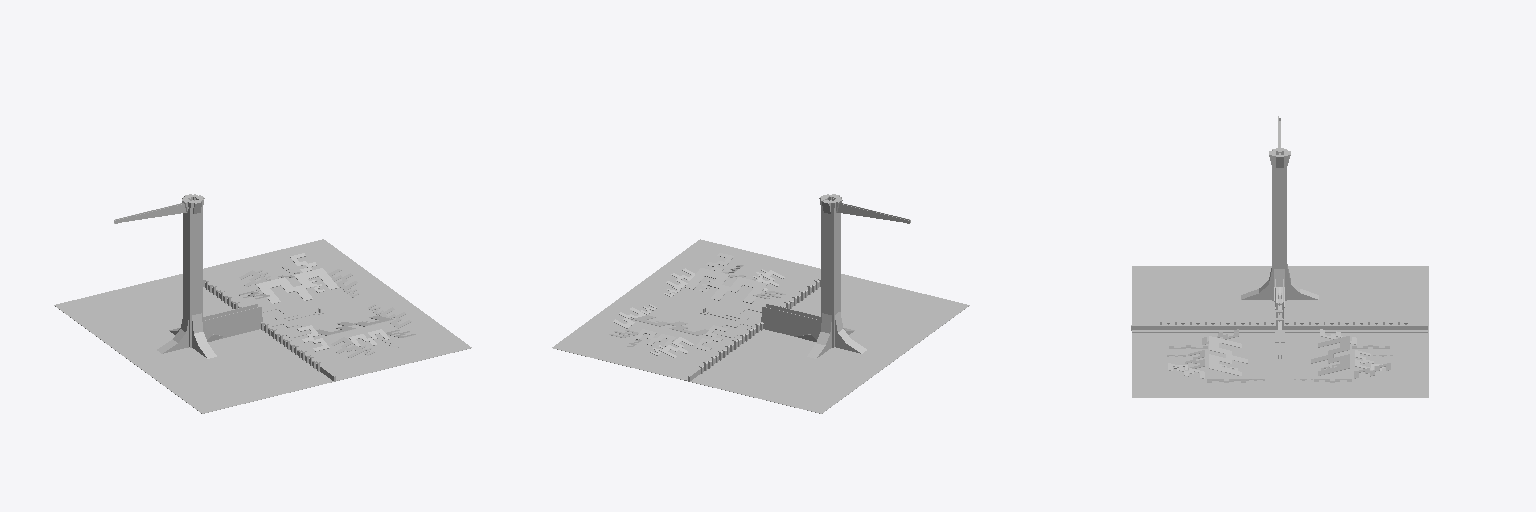
Rendered from tower.obj.
3 renders of one model, left to right at view 1: azimuth 30°, elevation 25°; view 2: azimuth 150°, elevation 25°; view 3: azimuth 270°, elevation 25°, orthographic.
Visible parts, largest first — view 1: Cube, entity66_brush1_entity66_brush1;visible=0; view 2: Cube, entity66_brush1_entity66_brush1;visible=0; view 3: Cube.
Boxes of the visible parts, x1=… form: Cube: x1=54, y1=194, x2=471, y2=413; entity66_brush1_entity66_brush1;visible=0: x1=114, y1=194, x2=261, y2=338; Cube: x1=552, y1=194, x2=969, y2=413; entity66_brush1_entity66_brush1;visible=0: x1=762, y1=194, x2=910, y2=336; Cube: x1=1131, y1=118, x2=1428, y2=397.
Size of the model in its own units: 45264 by 22048 by 40992.